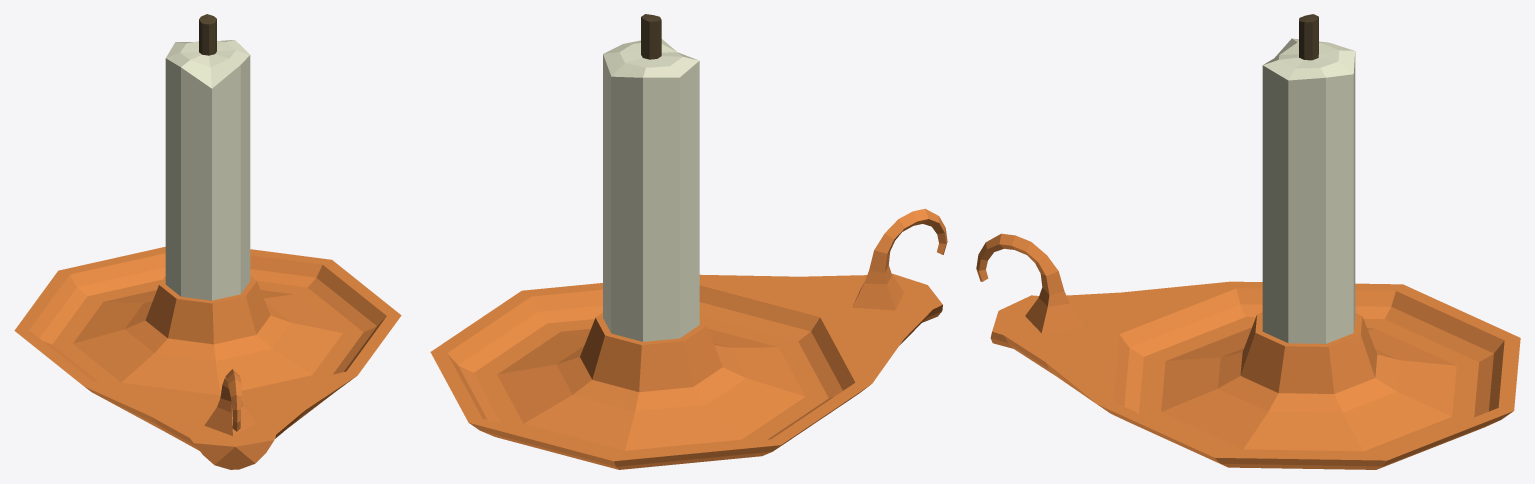
Rendered from Candle_D.fbx.
3 views of the same model, side by side, from view 1: azimuth 30°, elevation 25°; view 2: azimuth 150°, elevation 25°; view 3: azimuth 270°, elevation 25° (orthographic). The views are drawn at different scales.
Parts seen in each view (by area): view 1: Cylinder.002; view 2: Cylinder.002; view 3: Cylinder.002.
Part boxes in pixels (x1,y1,x2,y2): Cylinder.002: (14,14,401,469); Cylinder.002: (430,14,947,469); Cylinder.002: (976,14,1520,469).
Size of the model in its own units: 511 by 511 by 657.
